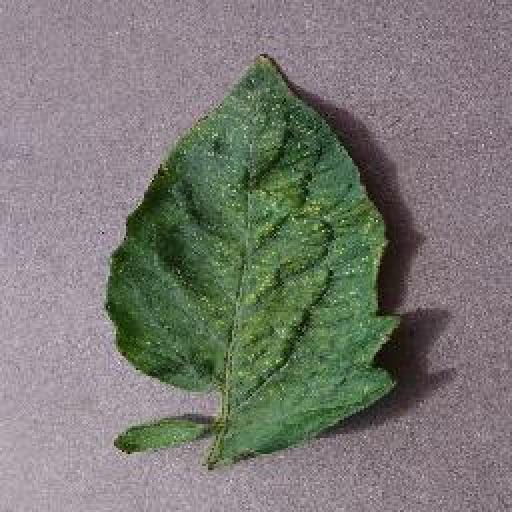disease_tomato: (105, 54, 403, 462)
